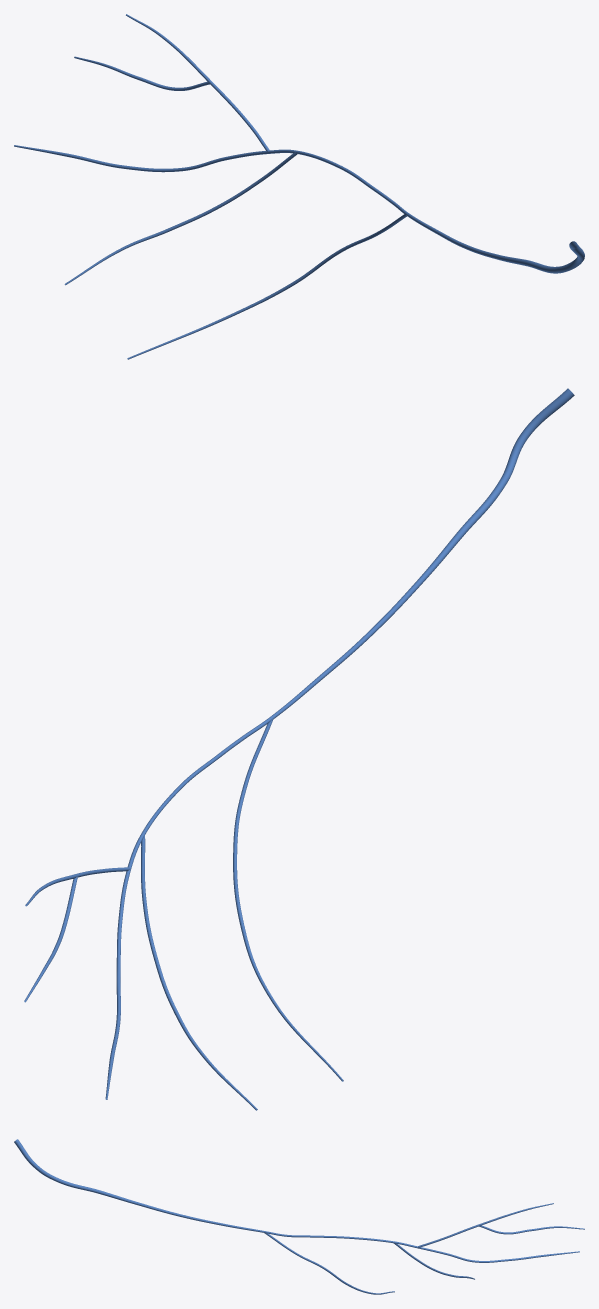
The picture shows the model from 3 angles, top to bottom: view 1: azimuth 30°, elevation 25°; view 2: azimuth 150°, elevation 25°; view 3: azimuth 270°, elevation 25°; orthographic projection. The views are drawn at different scales.
Visible parts, largest first — view 1: 左侧胸外侧静脉; view 2: 左侧胸外侧静脉; view 3: 左侧胸外侧静脉.
Boxes of the visible parts, bbox=[...] form: 左侧胸外侧静脉: bbox=[14, 14, 584, 359]; 左侧胸外侧静脉: bbox=[24, 388, 574, 1110]; 左侧胸外侧静脉: bbox=[14, 1139, 584, 1294].
Bounding box in the file's own units: 0.1066 × 0.1832 × 0.4994.
